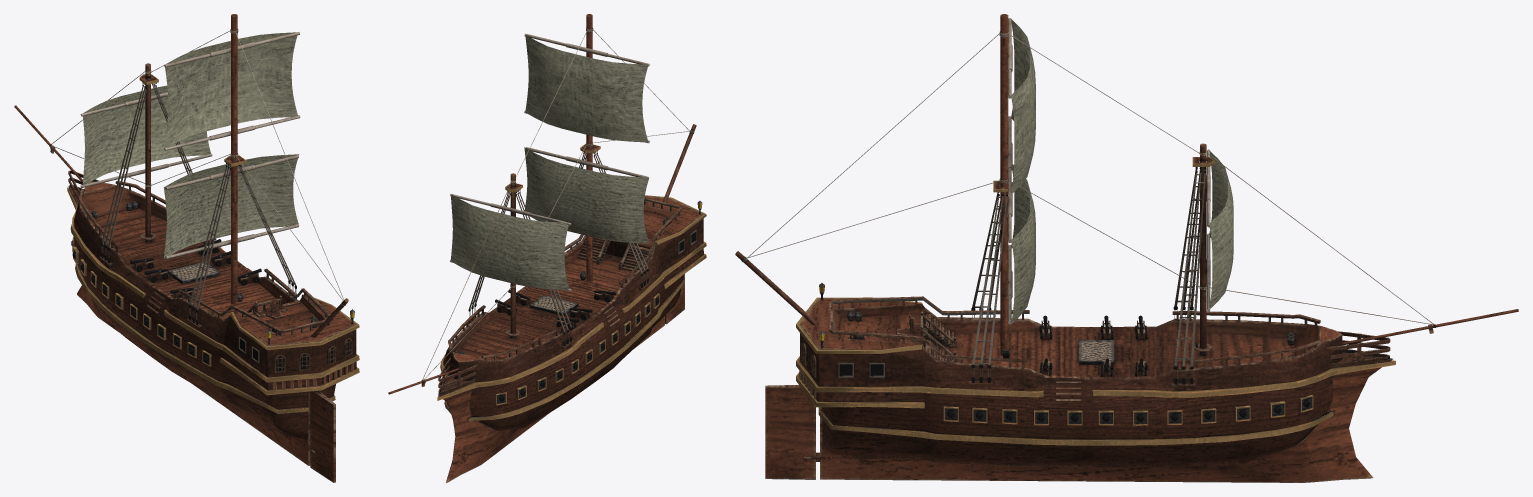
The model's file is Old Style Ship.fbx.
3 views of the same model, side by side, from view 1: azimuth 30°, elevation 25°; view 2: azimuth 150°, elevation 25°; view 3: azimuth 270°, elevation 25° (orthographic). The views are drawn at different scales.
Visible parts, largest first — view 1: polySurface1499; view 2: polySurface1499; view 3: polySurface1499.
Boxes of the visible parts, <box> form: polySurface1499: <box>14,14,359,482</box>; polySurface1499: <box>388,14,706,482</box>; polySurface1499: <box>735,14,1518,482</box>.
Bounding box in the file's own units: 647 × 1790 × 2745.
Materials: 1 (1 with a texture image).
